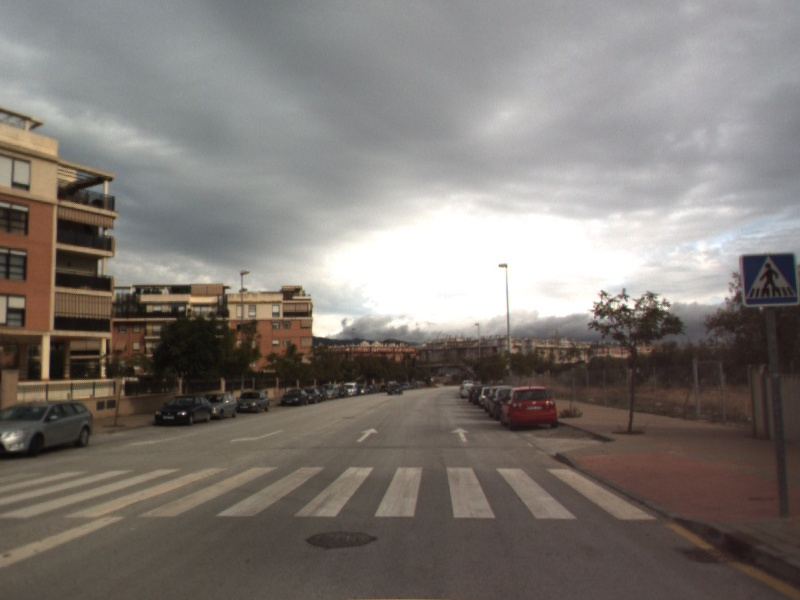STRAIGHT: (354, 426, 380, 444), (449, 425, 472, 443)
